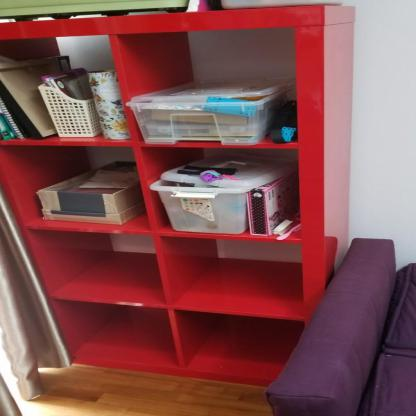lamp: (0, 2, 359, 397)
